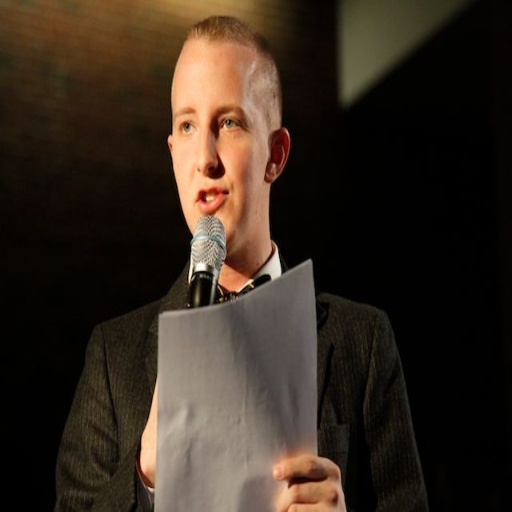hand: (264, 442, 348, 504), (136, 377, 156, 489)
